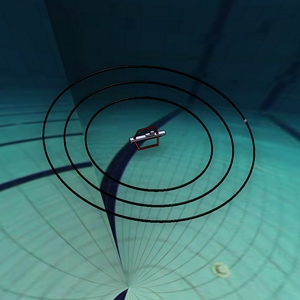circle: (32, 57, 266, 224)
submarine: (117, 120, 172, 156)
